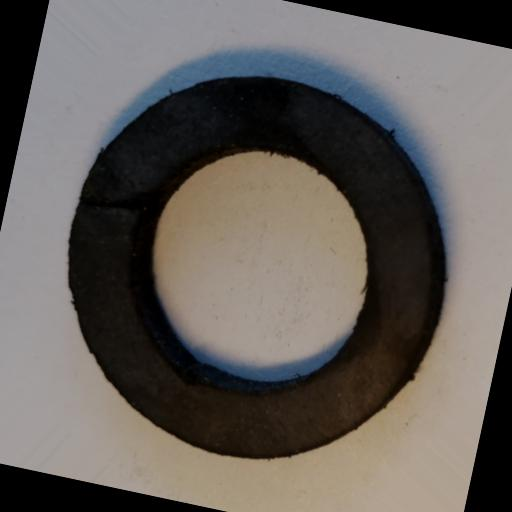defect: (76, 182, 147, 224)
